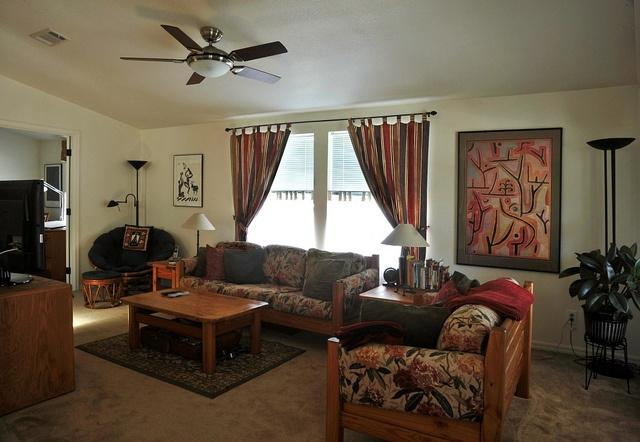Meja: (119, 286, 267, 373)
